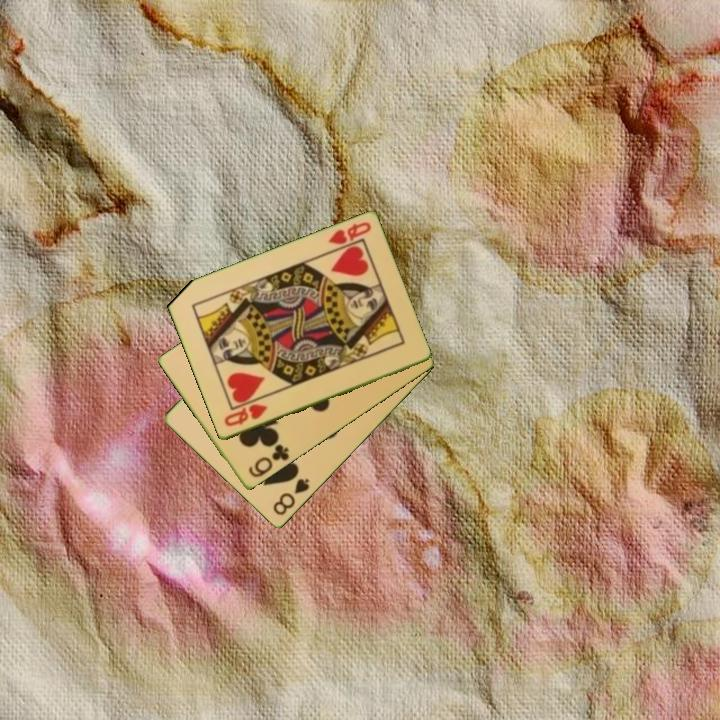6c: (245, 441, 292, 481)
8s: (269, 475, 312, 519)
Qh: (220, 401, 270, 430), (324, 219, 374, 248)
